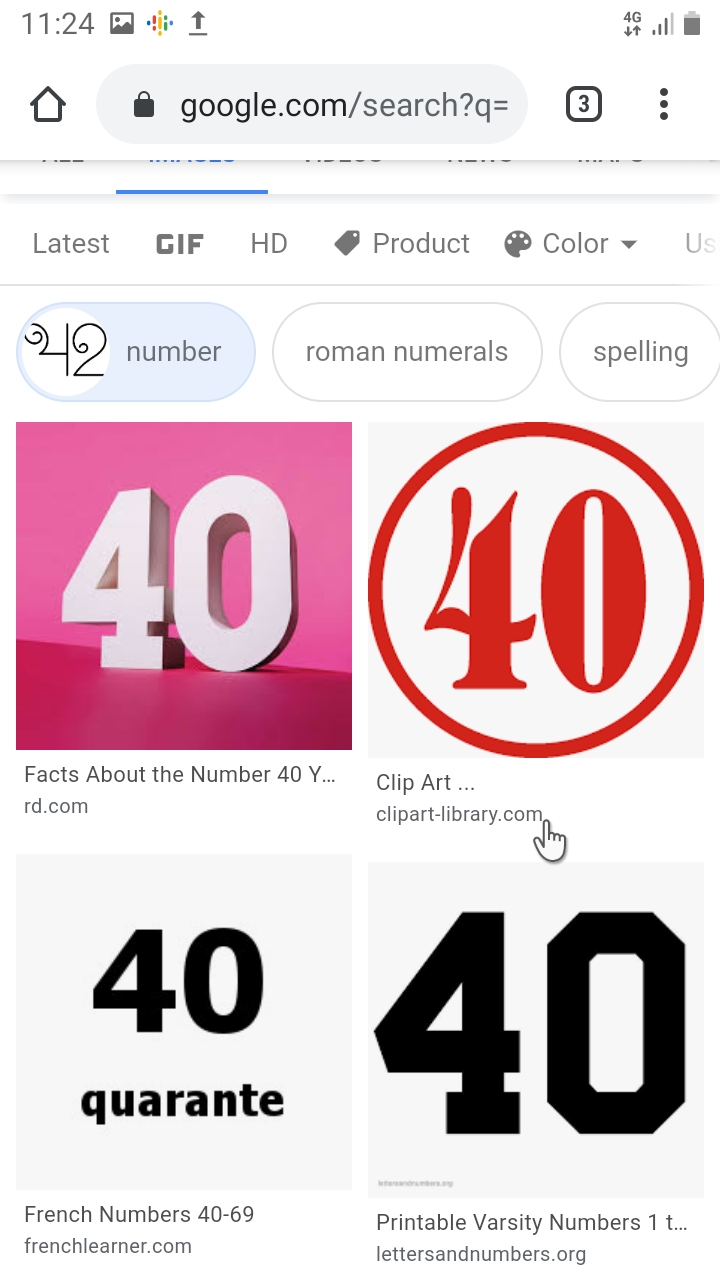40 kph: (374, 892, 715, 1174), (45, 447, 335, 727), (431, 468, 661, 717), (76, 904, 276, 1074)
